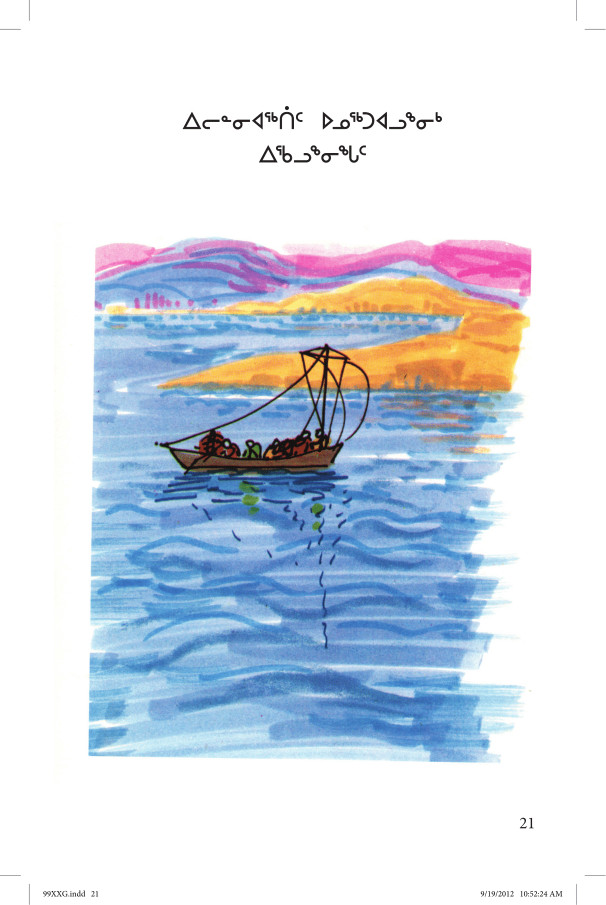inuktitut: (172, 101, 447, 167)
